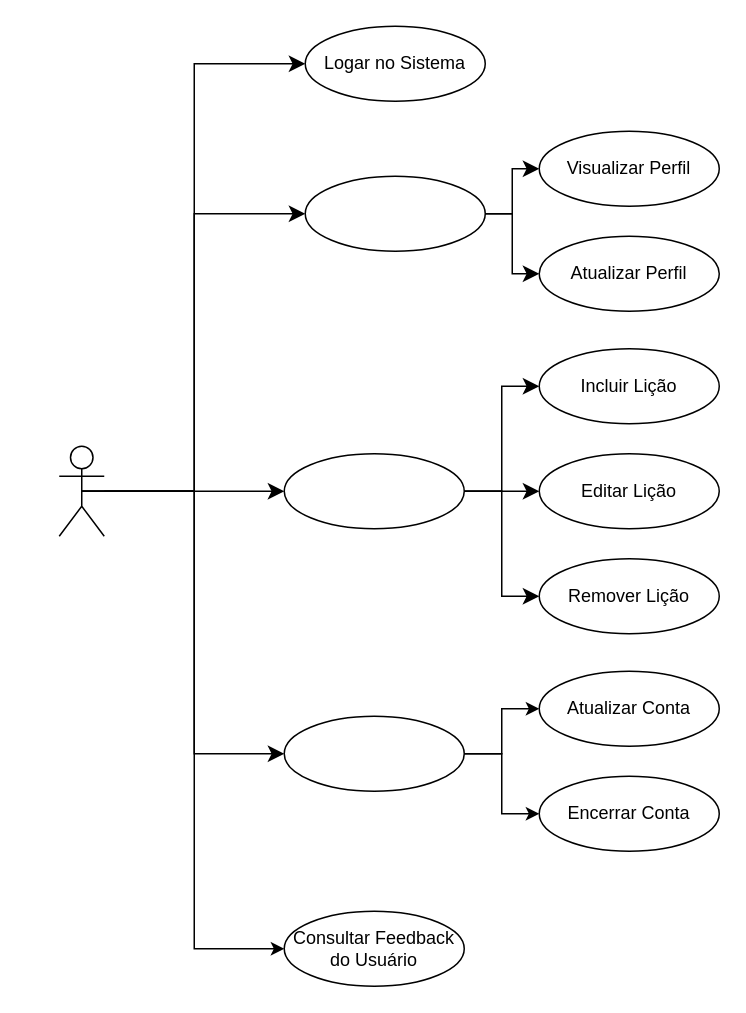
Some shapes in this 746 by 1013 pixel diagram are drawn without their labels. Here are the shapes that lost their labels. From the top down, the centre of each, then its label:
At point (394, 213): "Gerenciar Perfil".
At point (81, 490): "Administrador".
At point (373, 490): "Gerenciar Lições".
At point (373, 753): "Gerenciar Usuários".
